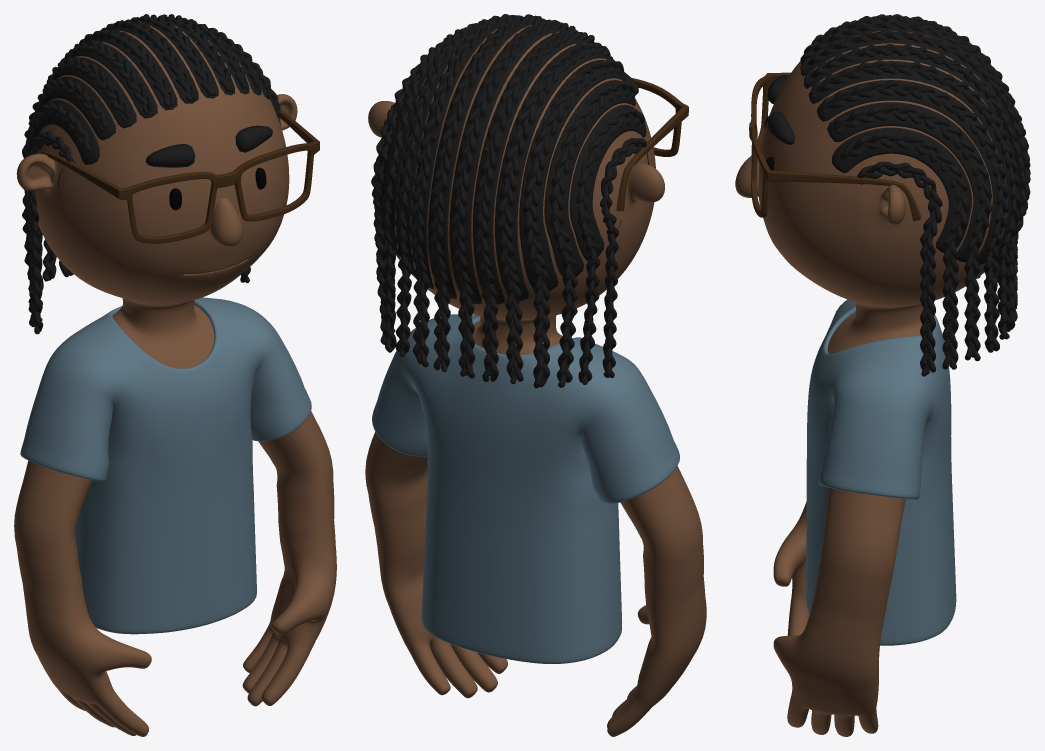
3 renders of one model, left to right at view 1: azimuth 30°, elevation 25°; view 2: azimuth 150°, elevation 25°; view 3: azimuth 270°, elevation 25°, orthographic. The views are drawn at different scales.
Parts seen in each view (by area): view 1: body, T-shirt, hair_11, eyeglass_3, Eyebrow.010, nose; view 2: hair_11, T-shirt, body, eyeglass_3; view 3: body, hair_11, T-shirt, eyeglass_3, Eyebrow.010, nose.
Boxes of the visible parts, x1,y1,x2,y2 form: body: [14, 23, 336, 736]; T-shirt: [20, 297, 311, 634]; hair_11: [22, 14, 281, 334]; eyeglass_3: [41, 109, 319, 243]; Eyebrow.010: [145, 125, 272, 167]; nose: [210, 198, 242, 246]; hair_11: [371, 14, 648, 388]; T-shirt: [372, 314, 679, 663]; body: [365, 25, 706, 736]; eyeglass_3: [616, 78, 688, 211]; body: [758, 30, 1007, 736]; hair_11: [800, 14, 1030, 376]; T-shirt: [806, 299, 956, 645]; eyeglass_3: [749, 72, 921, 221]; Eyebrow.010: [767, 75, 795, 144]; nose: [735, 155, 759, 197].
Size of the model in its own units: 6.15 by 12.78 by 5.04.
